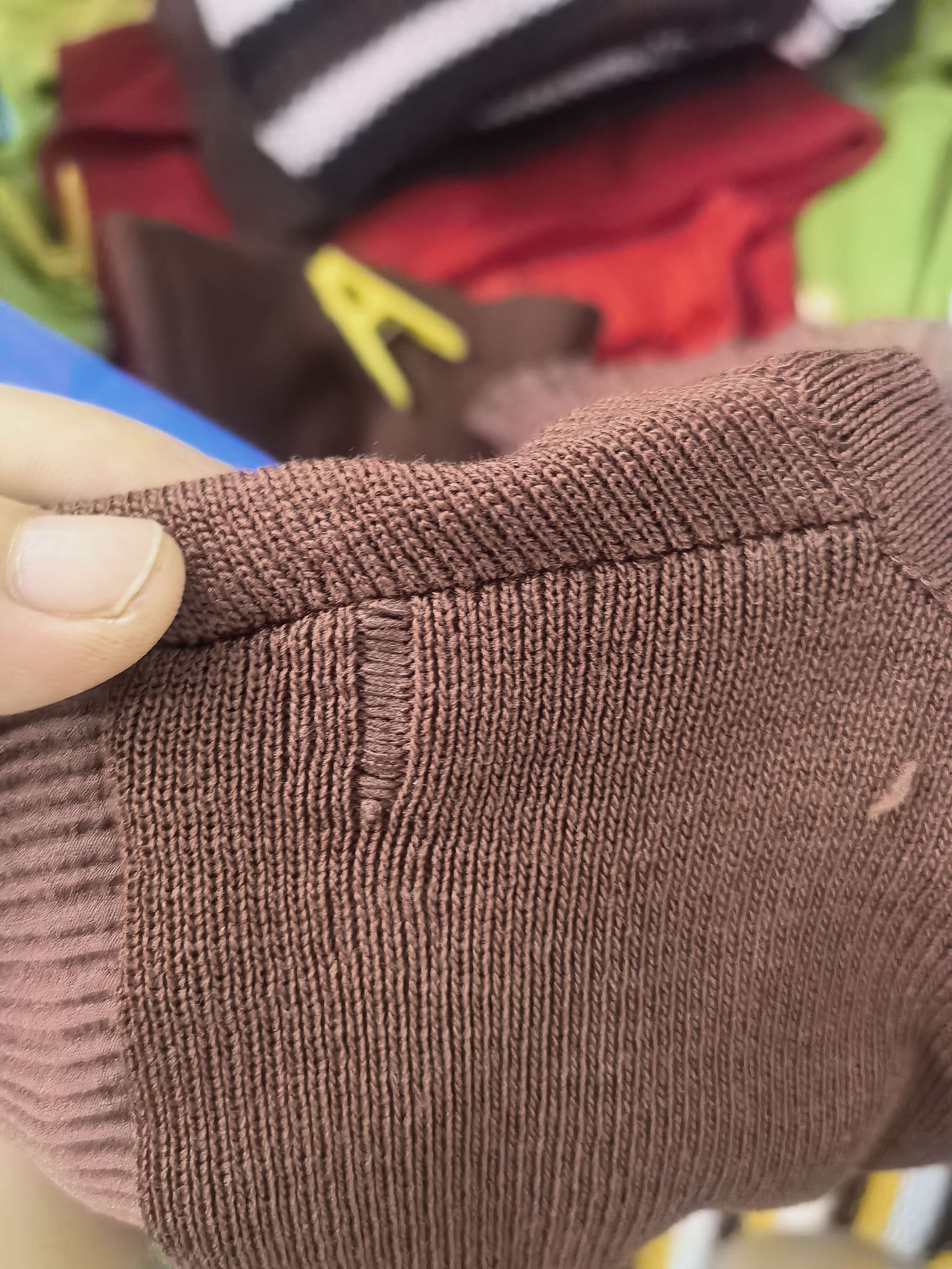missing_stitch_2: (342, 582, 430, 835)
